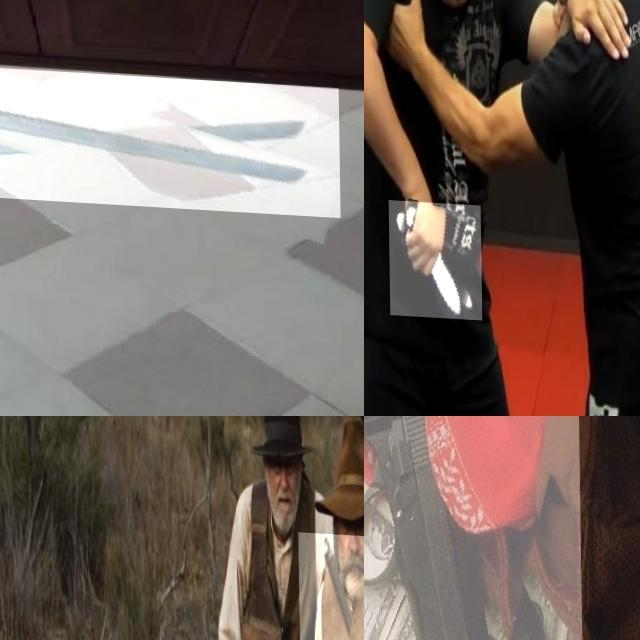-: (0, 59, 339, 211), (388, 198, 480, 318)
gun-knife-thesis - v11 Yolov5 augmented: (364, 416, 583, 640)
